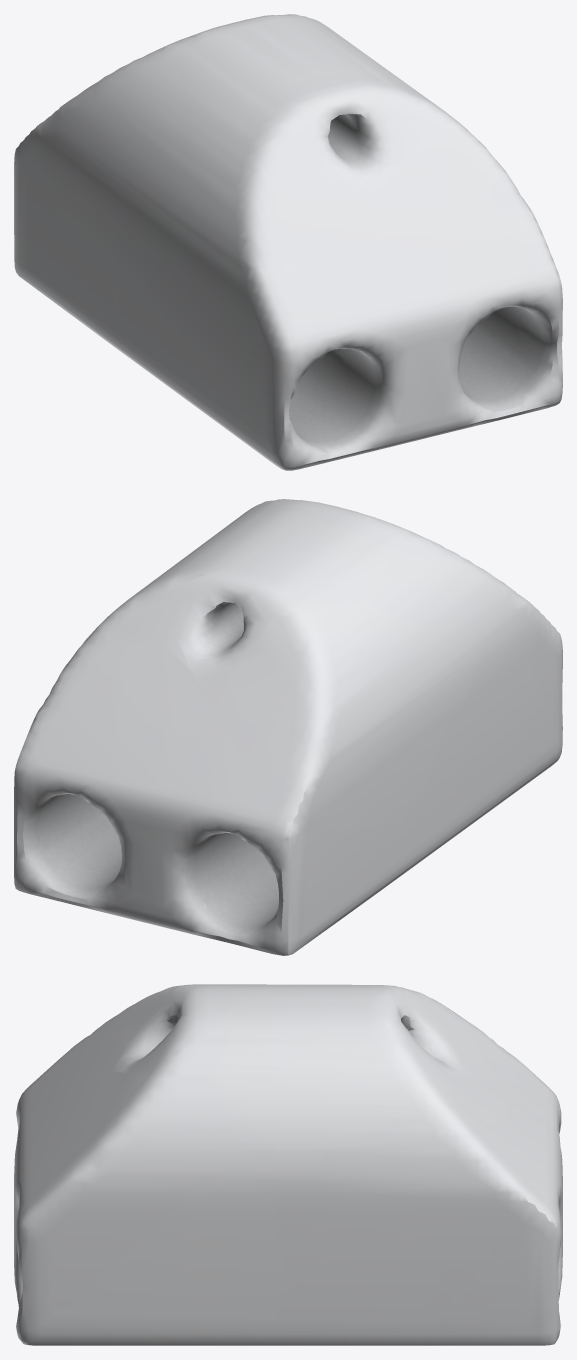
The model's file is left_finger4_lower.obj.
3 renders of one model, top to bottom at view 1: azimuth 30°, elevation 25°; view 2: azimuth 150°, elevation 25°; view 3: azimuth 270°, elevation 25°, orthographic. The views are drawn at different scales.
Visible parts, largest first — view 1: left_finger4_lower; view 2: left_finger4_lower; view 3: left_finger4_lower.
Part boxes in pixels (x1=…): left_finger4_lower: x1=14, y1=14, x2=562, y2=470; left_finger4_lower: x1=14, y1=499, x2=562, y2=955; left_finger4_lower: x1=14, y1=984, x2=562, y2=1345.
Size of the model in its own units: 0.0109 by 0.0104 by 0.0184.
1 material, 1 textured.
